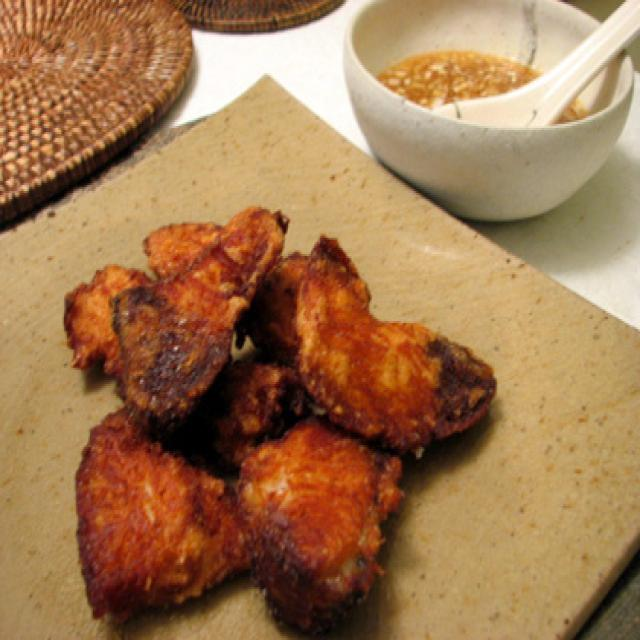鸡肉料理 含炸鸡: (38, 203, 437, 620)
